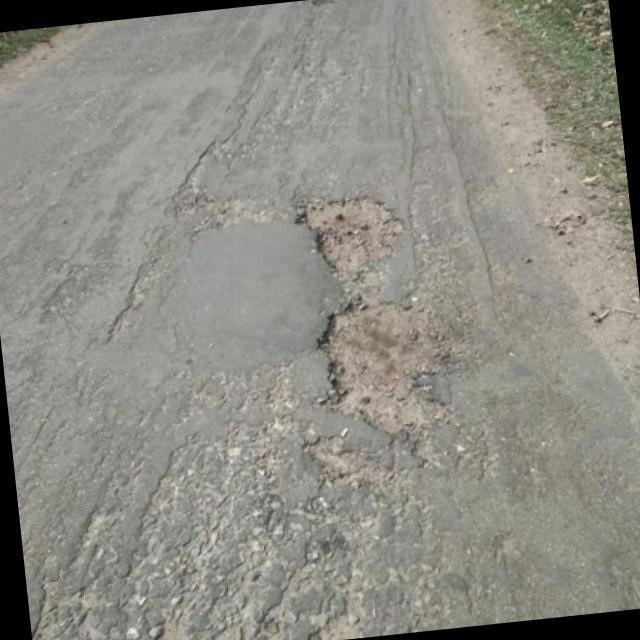Pothole: (305, 199, 448, 433)
